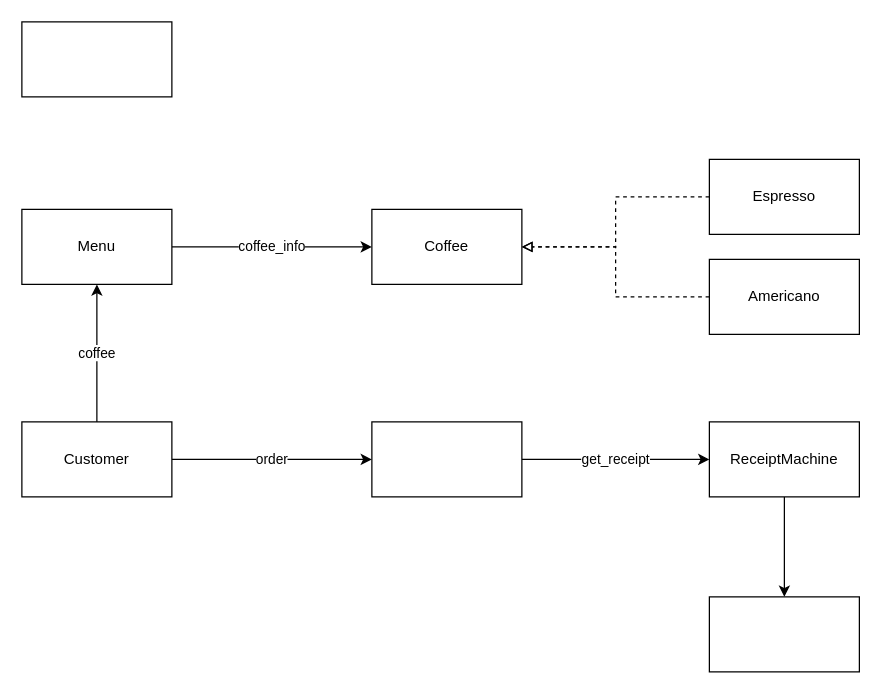
Some shapes in this 881 by 694 pixel diagram are drawn without their labels. The shapes that lost their labels are listed below. From the top down, each one's centre as x and y in pixels, then its label:
the point at 96,59: product
the point at 446,459: Seller
the point at 783,634: Receipt
